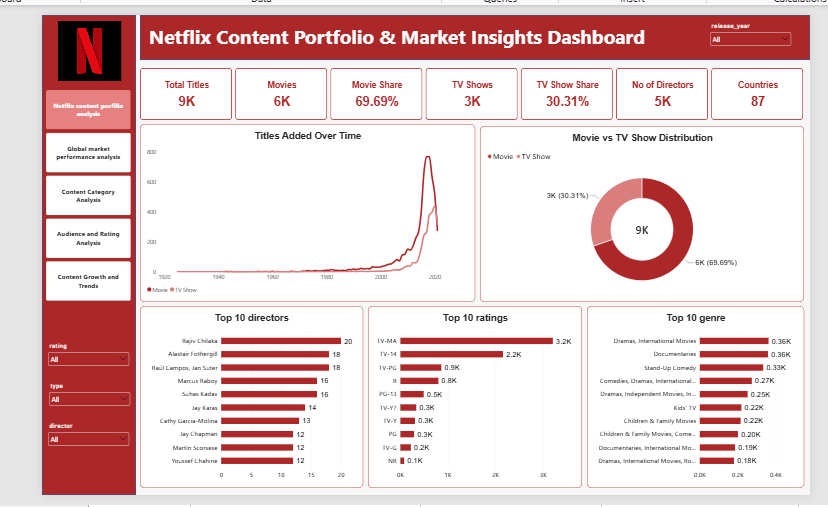

What the dashboard file says about the page in this screenshot:
{"tool":"powerbi","page":{"name":"Netflix content porfilio analysis","canvas":[1920,1200],"ordinal":0},"visuals":[{"type":"shape","box":[245,0,1675,112.5],"z":0},{"type":"shape","box":[0,0,235,1200],"z":1000},{"type":"cardVisual","fields":{"Data":["Netflix Titles.Total Titles","Netflix Titles.Movies","Netflix Titles.Movie Share","Netflix Titles.TV Shows","Netflix Titles.TV Show Share","Netflix Titles.No of Directors","Netflix Titles.Countries"]},"box":[245,132.5,1660,130],"z":2000},{"type":"donutChart","title":"Movie vs TV Show Distribution","fields":{"Category":["Netflix Titles.type"],"Y":["Netflix Titles.Total Titles"]},"box":[1095,277.5,810,440],"z":3000},{"type":"lineChart","title":"Titles Added Over Time","fields":{"Category":["Netflix Titles.release_year"],"Series":["Netflix Titles.type"],"Y":["Netflix Titles.Total Titles"]},"box":[245,272.5,837.5,445],"z":4000},{"type":"barChart","title":"Top 10 directors","fields":{"Category":["Netflix Titles.director"],"Y":["Netflix Titles.Total Titles"]},"box":[245,727.5,557.5,455],"z":5000},{"type":"barChart","title":"Top 10 ratings","fields":{"Category":["Netflix Titles.rating"],"Y":["Netflix Titles.Total Titles"]},"box":[815,727.5,535,455],"z":6000},{"type":"barChart","title":"Top 10 genre","fields":{"Category":["Netflix Titles.genre"],"Y":["Netflix Titles.Total Titles"]},"box":[1362.5,727.5,542.5,455],"z":7000},{"type":"textbox","box":[267.5,20,1367.5,75],"z":8000},{"type":"pageNavigator","box":[10,187.5,212.5,530],"z":9000},{"type":"image","box":[40,15,157.5,150],"z":10000},{"type":"slicer","fields":{"Values":["Netflix Titles.rating"]},"box":[10,817.5,212.5,72.5],"z":11000},{"type":"slicer","fields":{"Values":["Netflix Titles.type"]},"box":[12.5,917.5,212.5,72.5],"z":12000},{"type":"slicer","fields":{"Values":["Netflix Titles.director"]},"box":[10,1017.5,212.5,72.5],"z":13000},{"type":"slicer","fields":{"Values":["Netflix Titles.release_year"]},"box":[1665,17.5,212.5,72.5],"z":14000}]}

Visuals, with their boxes on the page's 1920x1200 design canvas (x1, y1, x2, y2). These are canvas units, not pixel positions in the 828x507 screenshot, which may show the page scaled, cropped or inside an application window:
shape: <bbox>245, 0, 1920, 112</bbox>
shape: <bbox>0, 0, 235, 1200</bbox>
cardVisual - Netflix Titles.Total Titles x Netflix Titles.Movies: <bbox>245, 132, 1905, 262</bbox>
"Movie vs TV Show Distribution" donutChart: <bbox>1095, 278, 1905, 718</bbox>
"Titles Added Over Time" lineChart: <bbox>245, 272, 1082, 718</bbox>
"Top 10 directors" barChart: <bbox>245, 728, 802, 1182</bbox>
"Top 10 ratings" barChart: <bbox>815, 728, 1350, 1182</bbox>
"Top 10 genre" barChart: <bbox>1362, 728, 1905, 1182</bbox>
textbox: <bbox>268, 20, 1635, 95</bbox>
pageNavigator: <bbox>10, 188, 222, 718</bbox>
image: <bbox>40, 15, 198, 165</bbox>
slicer - Netflix Titles.rating: <bbox>10, 818, 222, 890</bbox>
slicer - Netflix Titles.type: <bbox>12, 918, 225, 990</bbox>
slicer - Netflix Titles.director: <bbox>10, 1018, 222, 1090</bbox>
slicer - Netflix Titles.release_year: <bbox>1665, 18, 1878, 90</bbox>
